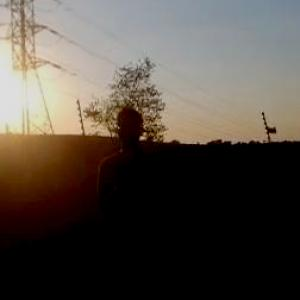follow: (91, 99, 172, 299)
